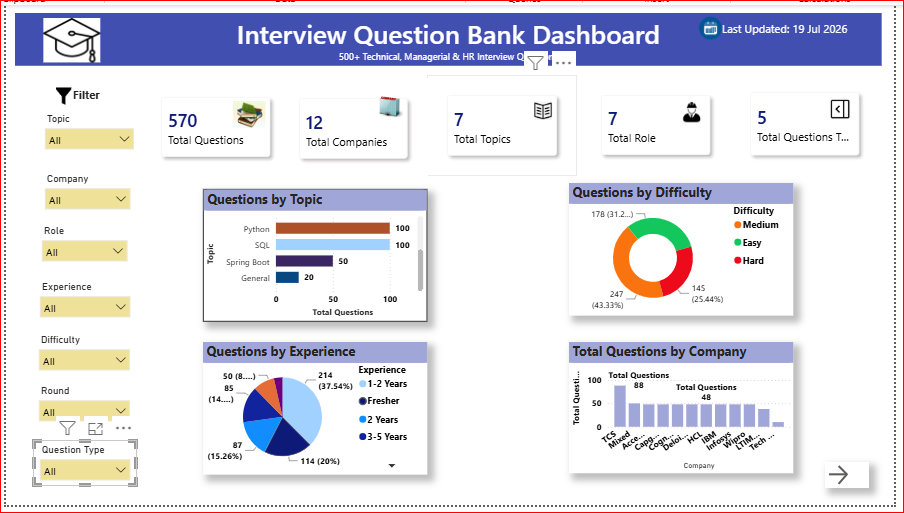

What the dashboard file says about the page in this screenshot:
{"tool":"powerbi","page":{"name":"Dashboard","canvas":[1280,720],"ordinal":0},"visuals":[{"type":"textbox","box":[13.5,11.8,1248,75.7],"z":0},{"type":"cardVisual","fields":{"Data":["Interview_Questions.Total Questions"]},"box":[195.1,104.3,215.3,144.7],"z":1000},{"type":"cardVisual","fields":{"Data":["Interview_Questions.Total Topics"]},"box":[606.4,100.8,216.4,145.5],"z":2000},{"type":"cardVisual","fields":{"Data":["Interview_Questions.Total Companies"]},"box":[393.7,104.5,214.6,145.5],"z":3000},{"type":"cardVisual","fields":{"Data":["Interview_Questions.Total Role"]},"box":[827.5,100.9,215.3,144.7],"z":4000},{"type":"cardVisual","fields":{"Data":["Interview_Questions.Total Questions Type"]},"box":[1042.9,96,215.3,149.8],"z":5000},{"type":"slicer","fields":{"Values":["Interview_Questions.Topic"]},"box":[45.4,149.7,148,75.7],"z":6000},{"type":"slicer","fields":{"Values":["Interview_Questions.Company"]},"box":[45.4,235.5,143,75.7],"z":7000},{"type":"slicer","fields":{"Values":["Interview_Questions.Role"]},"box":[42,311.2,143,80.7],"z":8000},{"type":"slicer","fields":{"Values":["Interview_Questions.Experience"]},"box":[38.7,391.9,149.7,75.7],"z":9000},{"type":"slicer","fields":{"Values":["Interview_Questions.Difficulty"]},"box":[37,467.6,151.4,70.6],"z":10000},{"type":"slicer","fields":{"Values":["Interview_Questions.Round"]},"box":[37,541.6,151.4,84.1],"z":11000},{"type":"slicer","fields":{"Values":["Interview_Questions.Question Type"]},"box":[38.7,625.7,149.7,67.3],"z":12000},{"type":"image","box":[28.6,18.5,131.2,63.9],"z":13000},{"type":"textbox","box":[72.3,114.4,87.5,35.3],"z":14000},{"type":"image","box":[72.3,114.4,21.9,35.3],"z":15000},{"type":"image","box":[760.7,132.4,26.2,40.7],"z":16000},{"type":"image","box":[960.4,137.9,53.8,32],"z":17000},{"type":"image","box":[528,128.7,52.2,37.3],"z":18000},{"type":"image","box":[316.2,137.9,67.3,38.7],"z":19000},{"type":"image","box":[1172.4,134.6,57.2,32],"z":20000},{"type":"textbox","box":[1014.2,18.5,215.3,47.1],"z":21000},{"type":"barChart","title":"Questions by Topic","fields":{"Y":["Interview_Questions.Total Questions"],"Category":["Interview_Questions.Topic"]},"box":[283.6,264.7,322.9,190.5],"z":22000},{"type":"donutChart","title":"Questions by Difficulty","fields":{"Category":["Interview_Questions.Difficulty"],"Y":["Interview_Questions.Total Questions"]},"box":[810.2,256,322.9,190.5],"z":23000},{"type":"pieChart","title":"Questions by Experience","fields":{"Category":["Interview_Questions.Experience"],"Y":["Interview_Questions.Total Questions"]},"box":[283.6,485.8,322.9,190.5],"z":24000},{"type":"image","box":[971.3,12.2,85.4,45.3],"z":25000},{"type":"actionButton","box":[1179.2,658.7,63.4,37.3],"z":26000},{"type":"columnChart","fields":{"Y":["Interview_Questions.Total Questions"],"Category":["Interview_Questions.Company"]},"box":[810.2,485.8,322.9,189.1],"z":27000}]}

Visuals, with their boxes in screenshot pixels (x1, y1, x2, y2), scaled from the page's 1280x720 canvas onto the 904x513 screenshot:
textbox: {"x1": 10, "y1": 8, "x2": 891, "y2": 62}
cardVisual - Interview_Questions.Total Questions: {"x1": 138, "y1": 74, "x2": 290, "y2": 177}
cardVisual - Interview_Questions.Total Topics: {"x1": 428, "y1": 72, "x2": 581, "y2": 175}
cardVisual - Interview_Questions.Total Companies: {"x1": 278, "y1": 74, "x2": 430, "y2": 178}
cardVisual - Interview_Questions.Total Role: {"x1": 584, "y1": 72, "x2": 736, "y2": 175}
cardVisual - Interview_Questions.Total Questions Type: {"x1": 737, "y1": 68, "x2": 889, "y2": 175}
slicer - Interview_Questions.Topic: {"x1": 32, "y1": 107, "x2": 137, "y2": 161}
slicer - Interview_Questions.Company: {"x1": 32, "y1": 168, "x2": 133, "y2": 222}
slicer - Interview_Questions.Role: {"x1": 30, "y1": 222, "x2": 131, "y2": 279}
slicer - Interview_Questions.Experience: {"x1": 27, "y1": 279, "x2": 133, "y2": 333}
slicer - Interview_Questions.Difficulty: {"x1": 26, "y1": 333, "x2": 133, "y2": 383}
slicer - Interview_Questions.Round: {"x1": 26, "y1": 386, "x2": 133, "y2": 446}
slicer - Interview_Questions.Question Type: {"x1": 27, "y1": 446, "x2": 133, "y2": 494}
image: {"x1": 20, "y1": 13, "x2": 113, "y2": 59}
textbox: {"x1": 51, "y1": 82, "x2": 113, "y2": 107}
image: {"x1": 51, "y1": 82, "x2": 67, "y2": 107}
image: {"x1": 537, "y1": 94, "x2": 556, "y2": 123}
image: {"x1": 678, "y1": 98, "x2": 716, "y2": 121}
image: {"x1": 373, "y1": 92, "x2": 410, "y2": 118}
image: {"x1": 223, "y1": 98, "x2": 271, "y2": 126}
image: {"x1": 828, "y1": 96, "x2": 868, "y2": 119}
textbox: {"x1": 716, "y1": 13, "x2": 868, "y2": 47}
"Questions by Topic" barChart: {"x1": 200, "y1": 189, "x2": 428, "y2": 324}
"Questions by Difficulty" donutChart: {"x1": 572, "y1": 182, "x2": 800, "y2": 318}
"Questions by Experience" pieChart: {"x1": 200, "y1": 346, "x2": 428, "y2": 482}
image: {"x1": 686, "y1": 9, "x2": 746, "y2": 41}
actionButton: {"x1": 833, "y1": 469, "x2": 878, "y2": 496}
columnChart - Interview_Questions.Total Questions x Interview_Questions.Company: {"x1": 572, "y1": 346, "x2": 800, "y2": 481}
